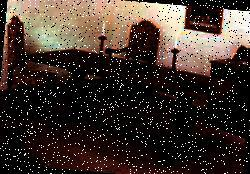Mesa: (15, 46, 244, 169)
Silla: (0, 13, 61, 120), (102, 16, 160, 101)
